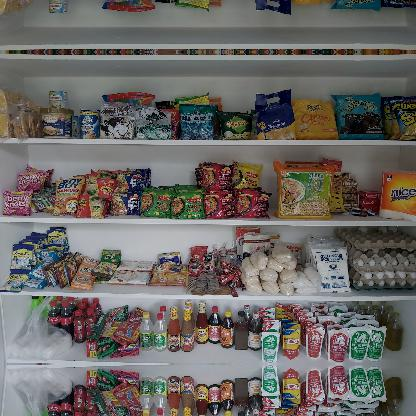Lady-s-Choice: (40, 108, 74, 138)
